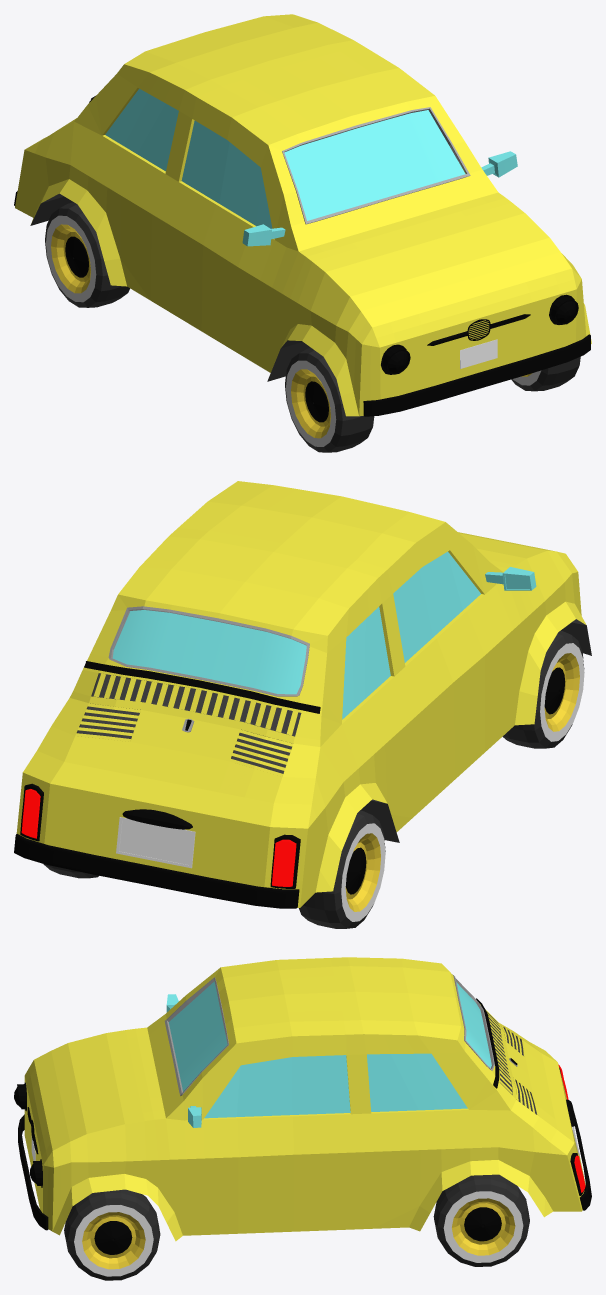
The model's file is car.FBX.
3 views of the same model, one above another, from view 1: azimuth 30°, elevation 25°; view 2: azimuth 150°, elevation 25°; view 3: azimuth 270°, elevation 25° (orthographic). The views are drawn at different scales.
Visible parts, largest first — view 1: body, front right wheel, back right wheel, front bumper, front window rubber, front left wheel, front plate, right mirror, left mirror; view 2: body, rear bumper, back right wheel, front right wheel, back plate, rear ventilation grille 1, rear ventilation grille 2, rear body accessories, rear window rubber, rear right lamp, right mirror, plate lamp body (+1 smaller); view 3: body, back left wheel, front left wheel, front window rubber, front bumper, rear ventilation grille 1, rear ventilation grille 2, rear window rubber, rear bumper.
Boxes of the visible parts, x1,y1,x2,y2 form: body: (15,14,591,416); front right wheel: (285,347,374,452); back right wheel: (45,202,129,307); front bumper: (363,334,590,416); front window rubber: (282,107,470,224); front left wheel: (511,356,580,391); front plate: (460,339,497,368); right mirror: (242,224,285,246); left mirror: (481,151,517,177); body: (16,481,591,907); rear bumper: (14,834,299,908); back right wheel: (299,810,385,928); front right wheel: (502,630,584,748); back plate: (116,817,195,868); rear ventilation grille 1: (93,673,298,735); rear ventilation grille 2: (75,703,292,776); rear body accessories: (84,661,320,713); rear window rubber: (108,606,309,696); rear right lamp: (272,839,296,886); right mirror: (485,567,536,590); plate lamp body: (122,809,192,829); body: (24,957,585,1241); back left wheel: (433,1174,529,1266); front left wheel: (64,1189,160,1280); front window rubber: (164,977,228,1095); front bumper: (18,1114,48,1230); rear ventilation grille 1: (485,1009,512,1094); rear ventilation grille 2: (501,1025,539,1116); rear window rubber: (452,974,494,1070); rear bumper: (574,1113,591,1210).
Bounding box in the file's own units: 6.75 × 5.45 × 12.58.
